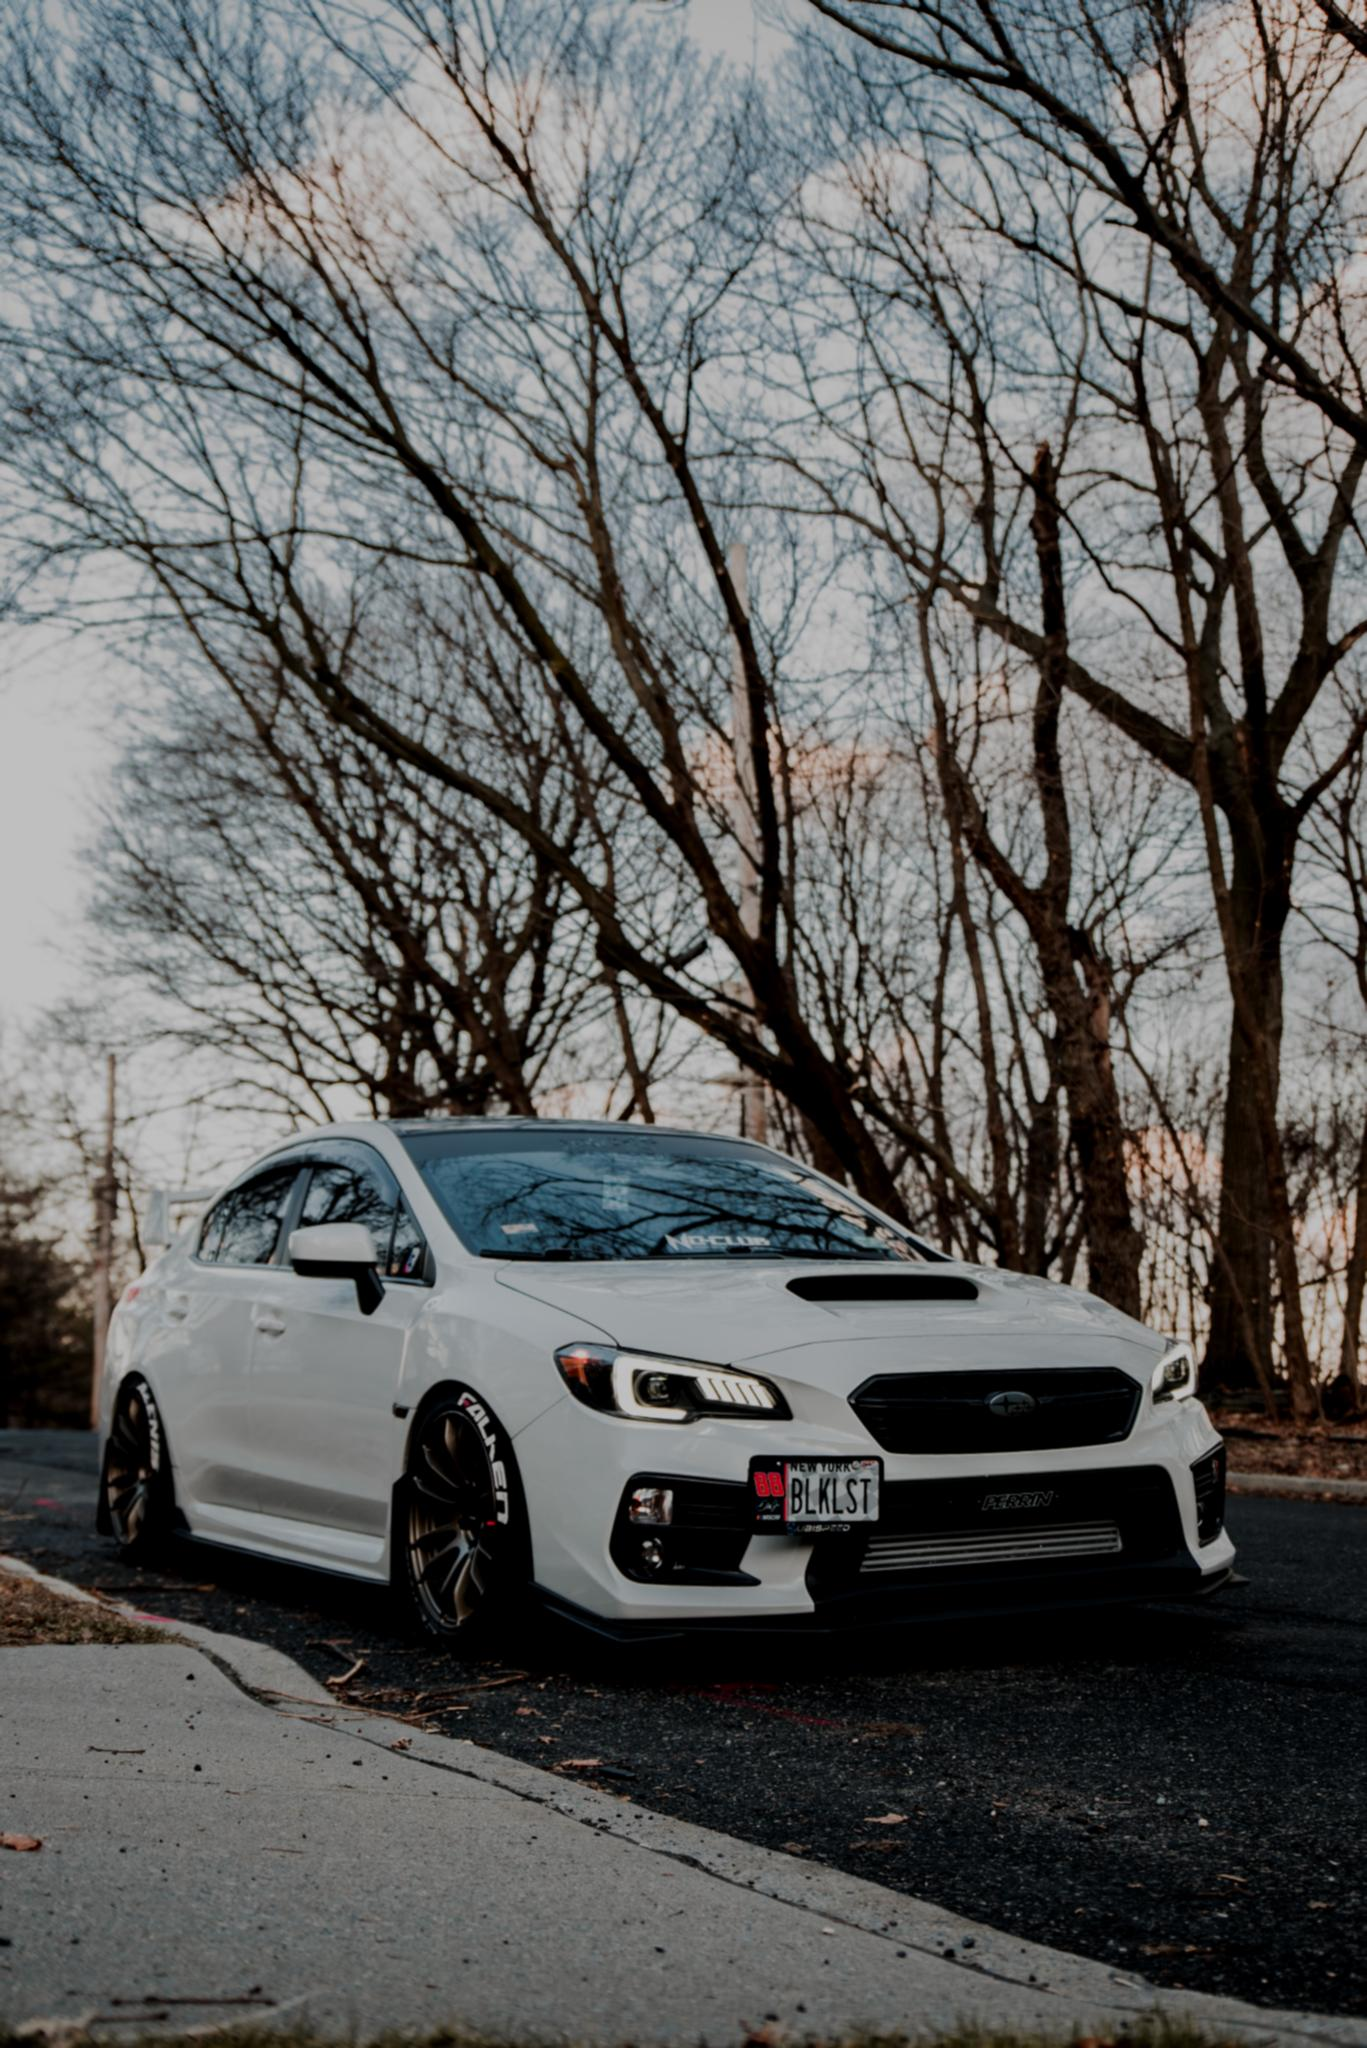subaru: (957, 1362, 1066, 1444)
